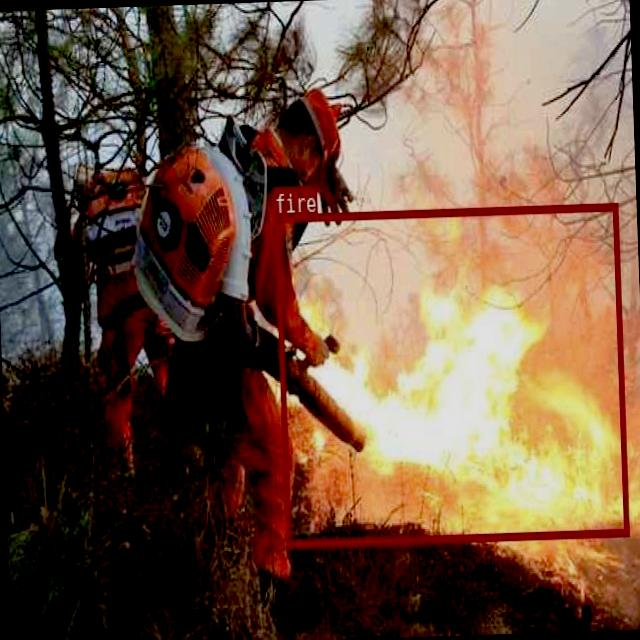fire: (274, 201, 628, 546)
